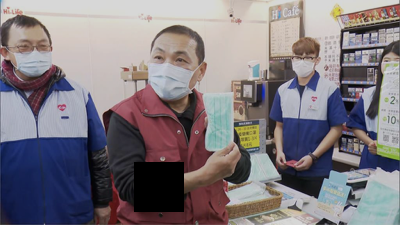with_mask: (147, 47, 197, 103), (12, 37, 54, 79), (292, 55, 315, 80), (381, 56, 400, 77)
